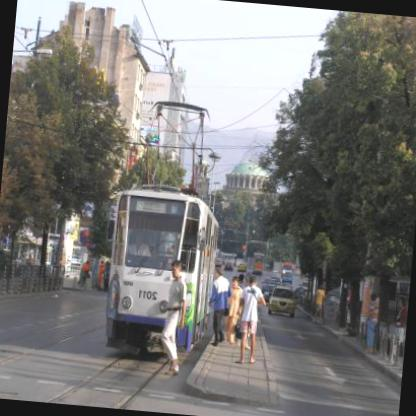bus: (98, 96, 230, 360), (252, 252, 266, 275)
